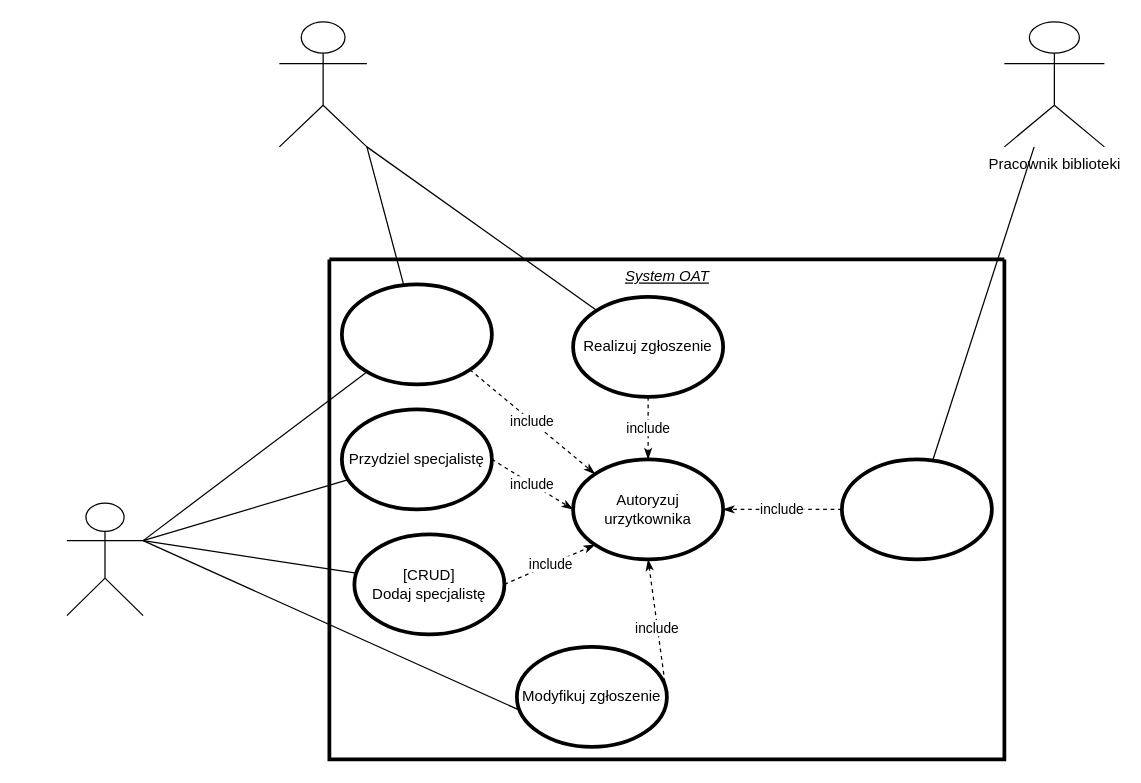
This 1141x783 diagram has some shape labels left out. The box of each missing label's shape, as (x1, y1, x2, y2) in pixels:
[CRUD] Dodaj zgłoszenie: (839, 457, 993, 561)
Specjalista: (278, 21, 367, 147)
Szef działu informatyków: (66, 502, 143, 616)
Wyświetl zgłoszenie: (339, 282, 493, 386)
